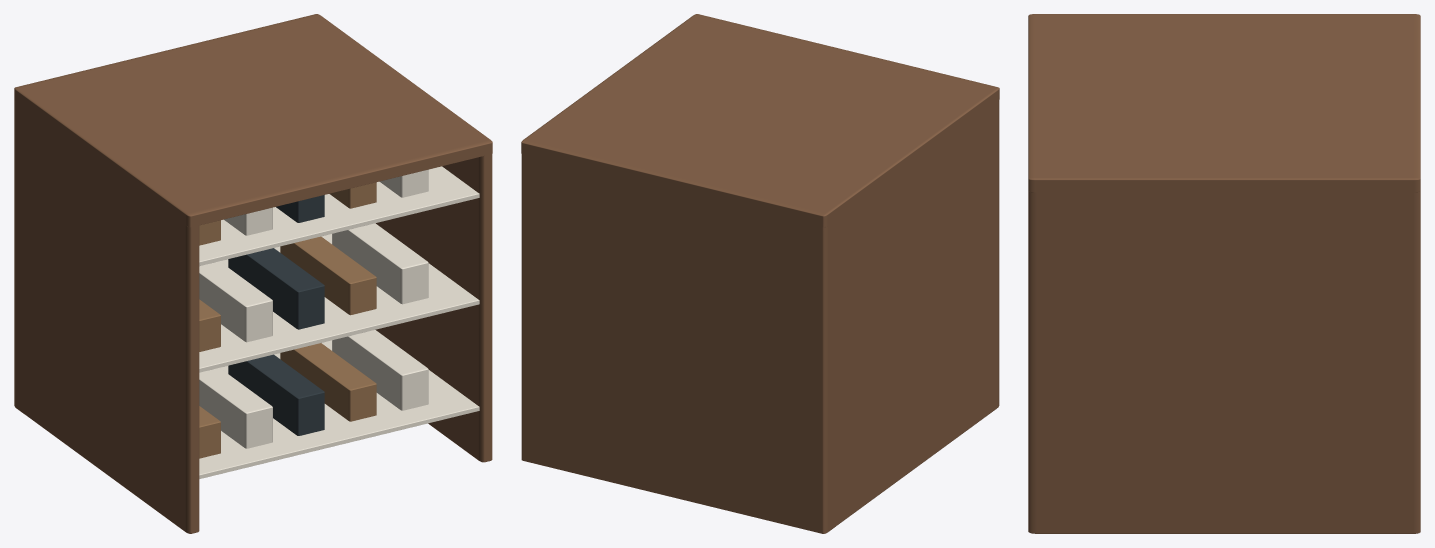
File: shelf-17-3.glb
3 views of the same model, side by side, from view 1: azimuth 30°, elevation 25°; view 2: azimuth 150°, elevation 25°; view 3: azimuth 270°, elevation 25° (orthographic). The views are drawn at different scales.
Visible parts, largest first — view 1: upholstery (×2), book (×2); view 2: upholstery; view 3: upholstery.
Boxes of the visible parts, x1,y1,x2,y2 form: upholstery (×2): [14, 14, 492, 533]; book (×2): [199, 182, 376, 458]; upholstery: [521, 14, 999, 533]; upholstery: [1028, 14, 1420, 533].
Size of the model in its own units: 1 by 1 by 1.
